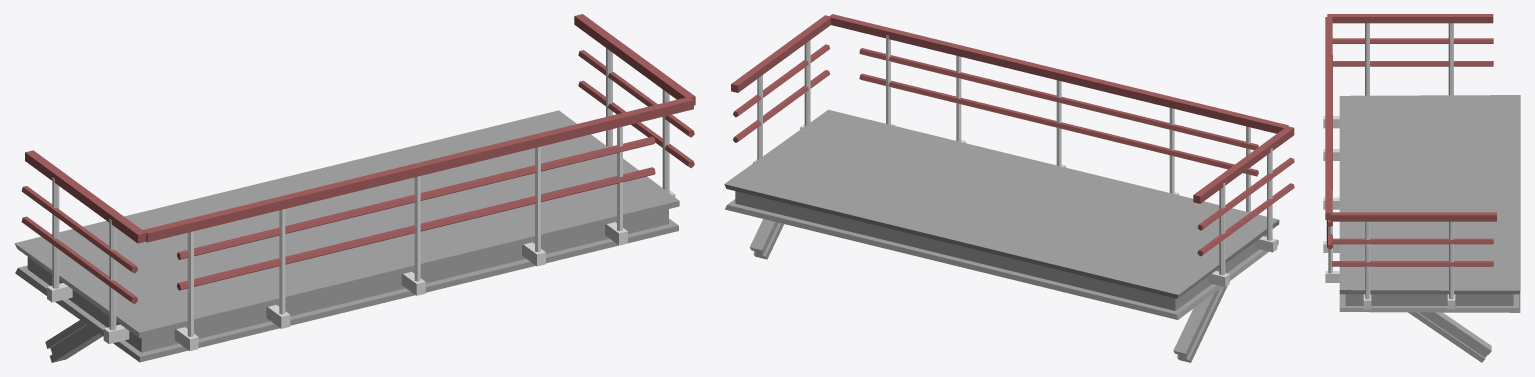
File: FireEscape_NoStairs.fbx
3 renders of one model, left to right at view 1: azimuth 30°, elevation 25°; view 2: azimuth 150°, elevation 25°; view 3: azimuth 270°, elevation 25°, orthographic. The views are drawn at different scales.
Visible parts, largest first — view 1: starless_fire; view 2: starless_fire; view 3: starless_fire.
Boxes of the visible parts, <box> form: starless_fire: <box>14,14,695,362</box>; starless_fire: <box>724,14,1294,362</box>; starless_fire: <box>1323,14,1520,362</box>.
Size of the model in its own units: 1049 by 371 by 429.
